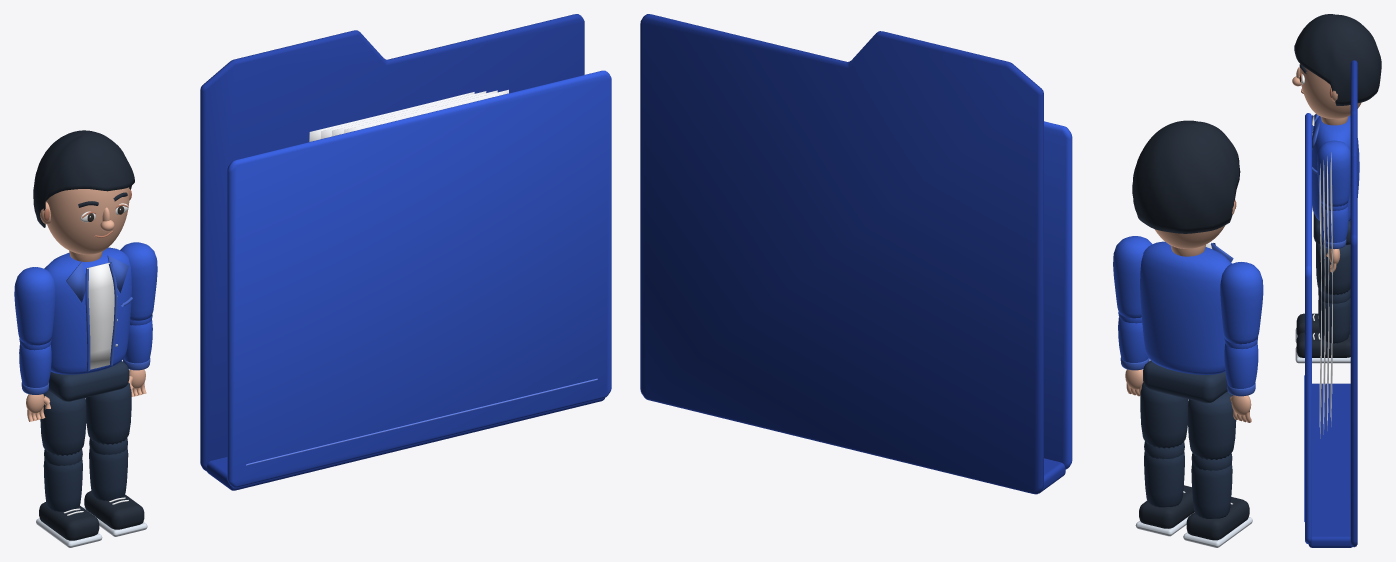
File: portfolio-scene-v2.glb
3 renders of one model, left to right at view 1: azimuth 30°, elevation 25°; view 2: azimuth 150°, elevation 25°; view 3: azimuth 270°, elevation 25°, orthographic. The views are drawn at different scales.
Visible parts, largest first — view 1: folder_front_surface, folder_back_surface, jacket_body, swept_hair, face, upper_sleeve_left, tee_insert, thigh_mesh_left, thigh_mesh_right, waist, upper_sleeve_right, calf_mesh_left (+7 smaller); view 2: folder_back_surface, swept_hair, jacket_body, folder_front_surface, upper_sleeve_left, thigh_mesh_left, thigh_mesh_right, waist, upper_sleeve_right, calf_mesh_left, calf_mesh_right, shoe_left (+4 smaller); view 3: folder_spine, swept_hair, folder_back_surface, folder_front_surface, upper_sleeve_right, jacket_body, thigh_mesh_right, face, calf_mesh_right, shoe_right, lower_sleeve_right, paper_surface_2 (+11 smaller).
Part boxes in pixels (x1=…): folder_front_surface: x1=227, y1=70, x2=611, y2=487; folder_back_surface: x1=200, y1=14, x2=584, y2=471; jacket_body: x1=44, y1=247, x2=131, y2=374; swept_hair: x1=33, y1=130, x2=134, y2=227; face: x1=45, y1=187, x2=129, y2=254; upper_sleeve_left: x1=14, y1=267, x2=55, y2=345; tee_insert: x1=86, y1=262, x2=114, y2=369; thigh_mesh_left: x1=40, y1=390, x2=86, y2=455; thigh_mesh_right: x1=85, y1=382, x2=131, y2=444; waist: x1=48, y1=361, x2=129, y2=401; upper_sleeve_right: x1=120, y1=242, x2=157, y2=320; calf_mesh_left: x1=43, y1=458, x2=82, y2=511; folder_back_surface: x1=640, y1=14, x2=1043, y2=494; swept_hair: x1=1132, y1=120, x2=1240, y2=233; jacket_body: x1=1140, y1=241, x2=1231, y2=374; folder_front_surface: x1=1044, y1=121, x2=1072, y2=469; upper_sleeve_left: x1=1220, y1=262, x2=1263, y2=344; thigh_mesh_left: x1=1188, y1=391, x2=1236, y2=459; thigh_mesh_right: x1=1140, y1=382, x2=1188, y2=448; waist: x1=1143, y1=360, x2=1227, y2=403; upper_sleeve_right: x1=1113, y1=236, x2=1152, y2=318; calf_mesh_left: x1=1191, y1=463, x2=1232, y2=518; calf_mesh_right: x1=1144, y1=451, x2=1184, y2=507; shoe_left: x1=1186, y1=497, x2=1249, y2=540; folder_spine: x1=1308, y1=383, x2=1352, y2=547; swept_hair: x1=1294, y1=14, x2=1381, y2=105; folder_back_surface: x1=1350, y1=60, x2=1357, y2=547; folder_front_surface: x1=1305, y1=113, x2=1311, y2=544; upper_sleeve_right: x1=1317, y1=140, x2=1350, y2=206; jacket_body: x1=1312, y1=116, x2=1359, y2=221; thigh_mesh_right: x1=1316, y1=243, x2=1350, y2=295; face: x1=1300, y1=64, x2=1361, y2=118; calf_mesh_right: x1=1318, y1=297, x2=1350, y2=343; shoe_right: x1=1296, y1=332, x2=1350, y2=357; lower_sleeve_right: x1=1321, y1=205, x2=1348, y2=242; paper_surface_2: x1=1323, y1=160, x2=1325, y2=434.
Size of the model in its own units: 4.35 by 2.99 by 0.6849.
